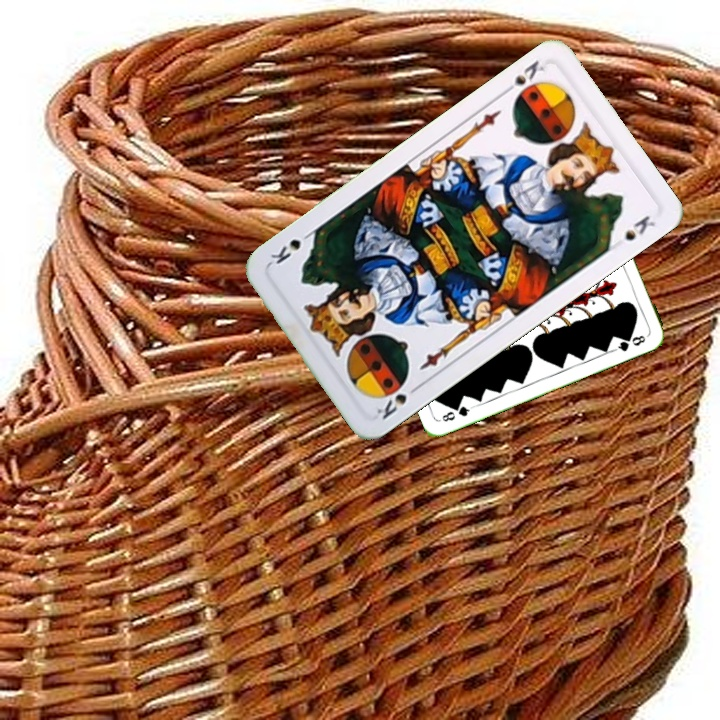G8: (438, 402, 475, 424)
SK: (372, 380, 424, 423), (498, 56, 547, 98)
